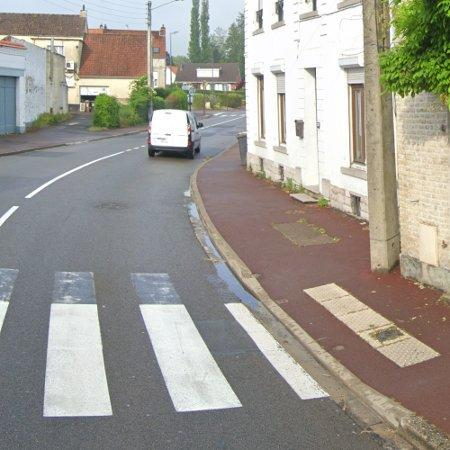crosswalks: (0, 301, 330, 416)
